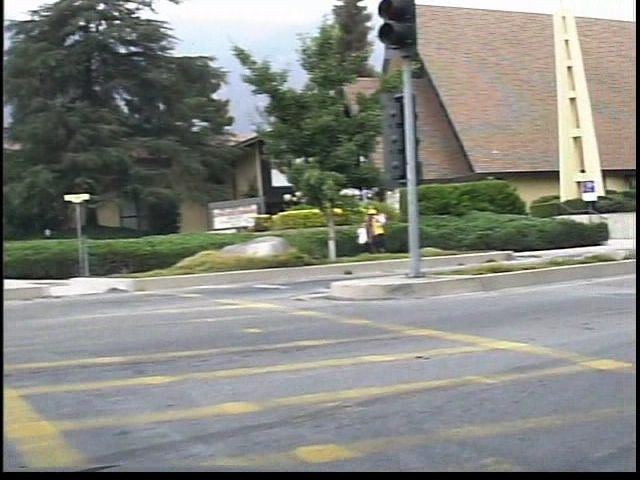person: (377, 204, 404, 259)
